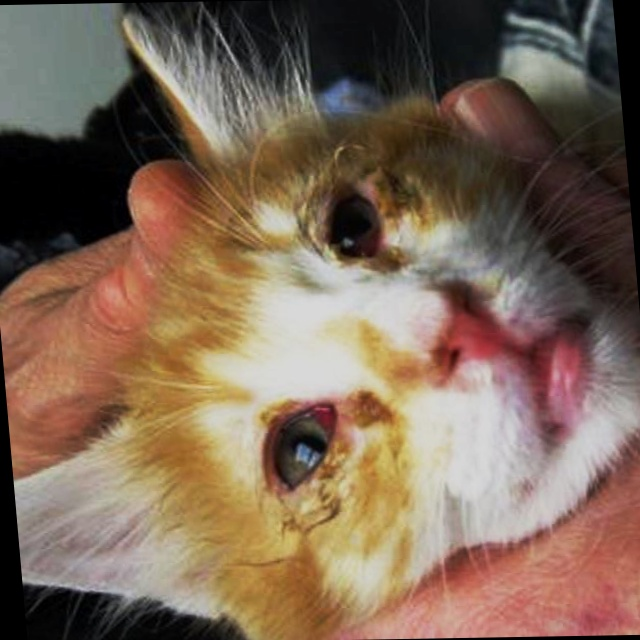eye_infection: (261, 401, 359, 498), (318, 185, 392, 263)
